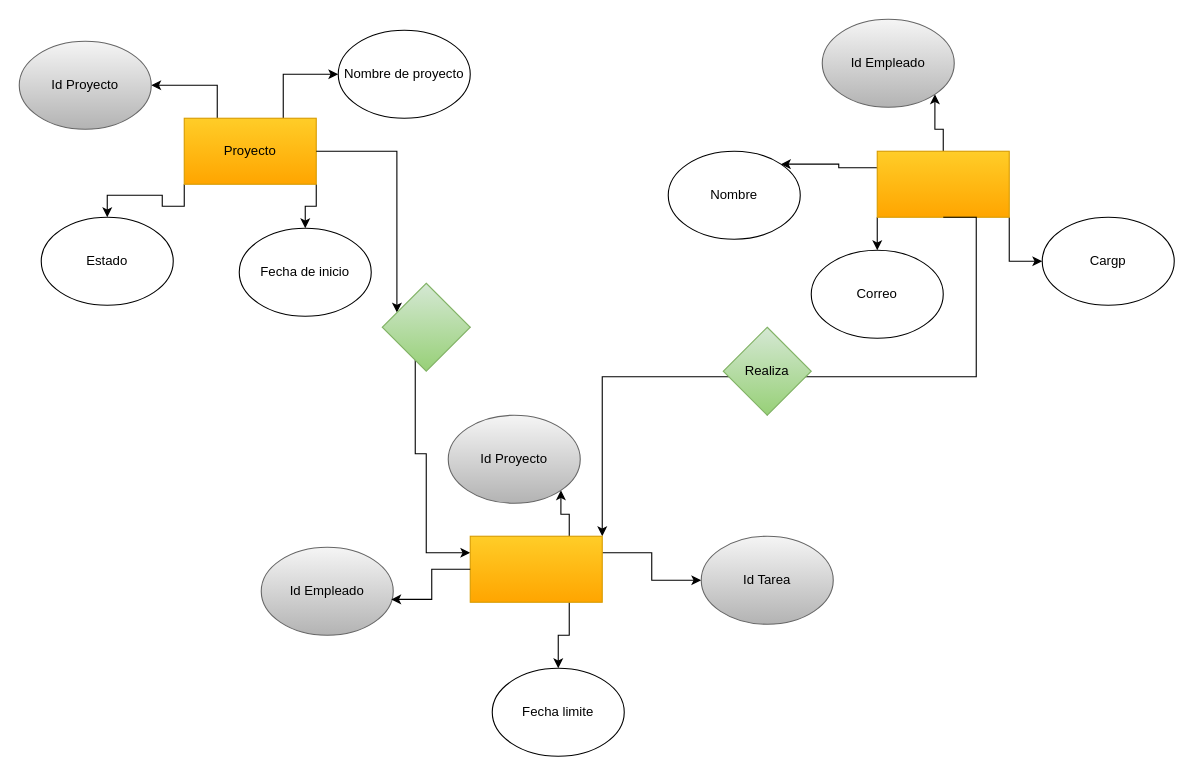
The diagram is 1194 pixels wide and 776 high, and some of its shapes have lost their labels. Each missing label, with the centre of its shape:
"Empleado" goes at point (942, 183).
"Tarea" goes at point (535, 568).
"Tiene una" goes at point (425, 326).
